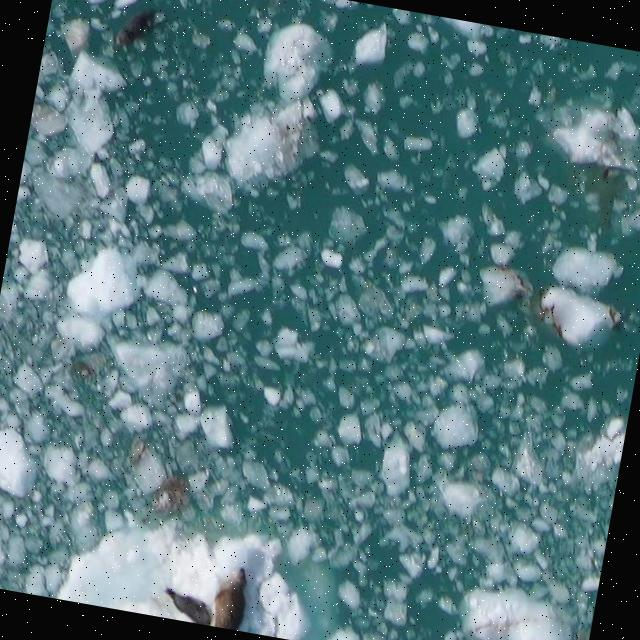seal: (209, 563, 253, 632), (155, 586, 216, 629), (109, 6, 161, 54)
